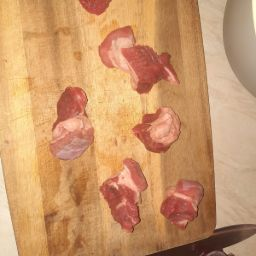Chicken Strips: (25, 11, 210, 237), (33, 68, 108, 169), (86, 150, 163, 246), (93, 20, 184, 100), (122, 97, 189, 161), (157, 163, 212, 238), (66, 2, 122, 25)
